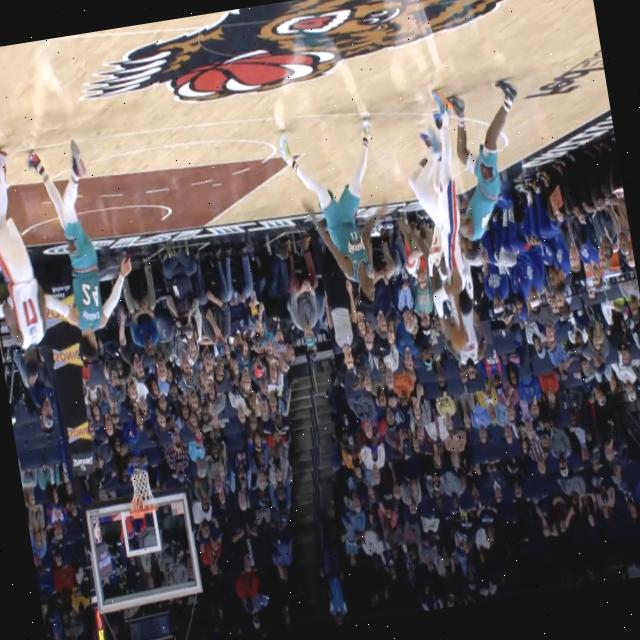no foul: (394, 66, 536, 360)
